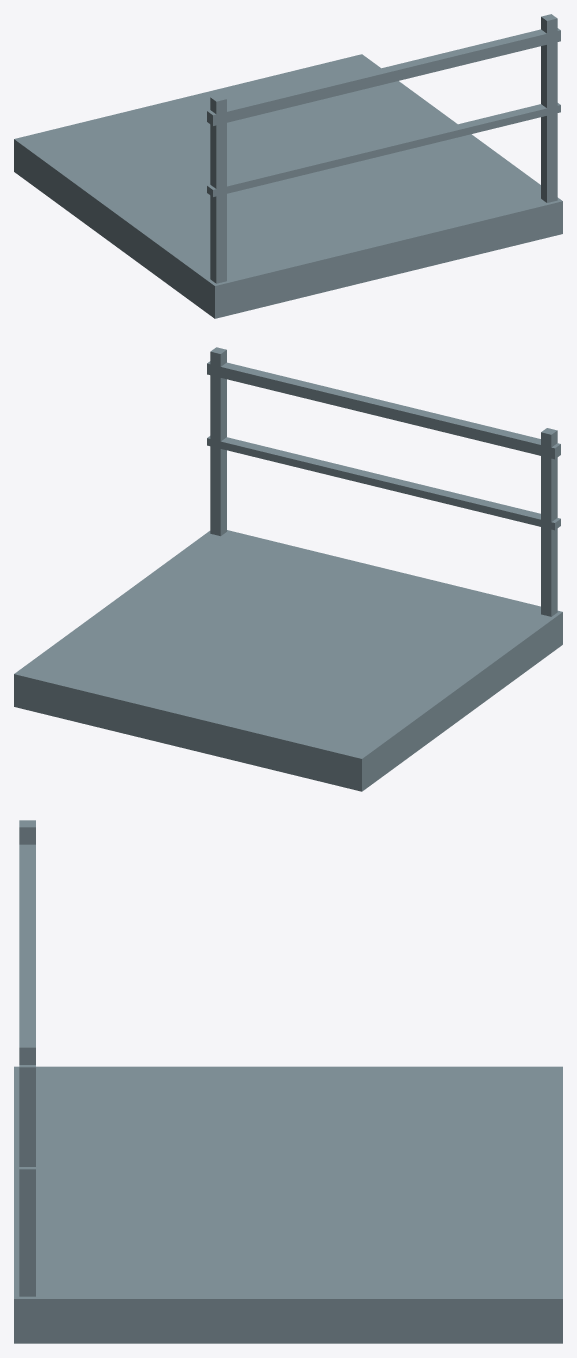
The model's file is Hab_Balcony_2m.glb.
3 views of the same model, one above another, from view 1: azimuth 30°, elevation 25°; view 2: azimuth 150°, elevation 25°; view 3: azimuth 270°, elevation 25° (orthographic). The views are drawn at different scales.
Visible parts, largest first — view 1: Hab_Balcony_2m; view 2: Hab_Balcony_2m; view 3: Hab_Balcony_2m.
Boxes of the visible parts, x1,y1,x2,y2 form: Hab_Balcony_2m: [14, 14, 562, 318]; Hab_Balcony_2m: [14, 347, 562, 791]; Hab_Balcony_2m: [14, 820, 562, 1343].
Size of the model in its own units: 2 by 1.18 by 2.
